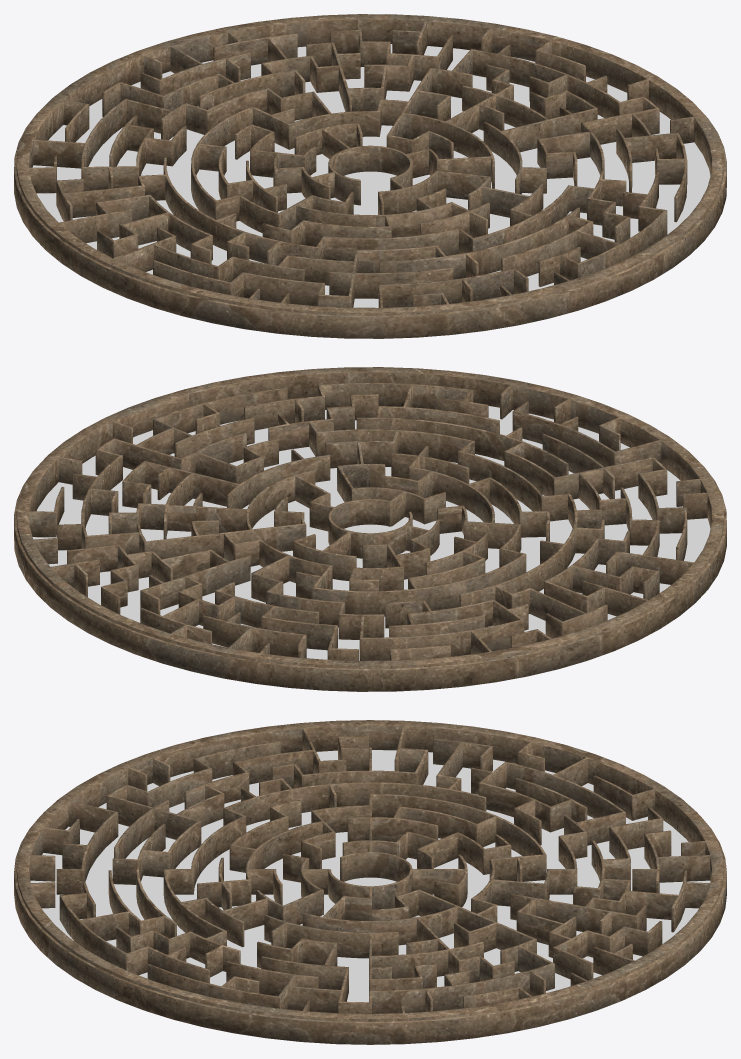
The model's file is 01mazeUpload.fbx.
3 views of the same model, one above another, from view 1: azimuth 30°, elevation 25°; view 2: azimuth 150°, elevation 25°; view 3: azimuth 270°, elevation 25° (orthographic).
Parts seen in each view (by area): view 1: Walls.001, Base; view 2: Walls.001, Base; view 3: Walls.001, Base.
Part boxes in pixels (left/top/right/bottom): Walls.001: left=14, top=14, right=726, bottom=338; Base: left=32, top=44, right=710, bottom=307; Walls.001: left=14, top=367, right=726, bottom=691; Base: left=32, top=406, right=710, bottom=660; Walls.001: left=14, top=720, right=726, bottom=1044; Base: left=30, top=750, right=710, bottom=1002.
Bounding box in the file's own units: 2629 × 106 × 2629.
1 material, 1 textured.
